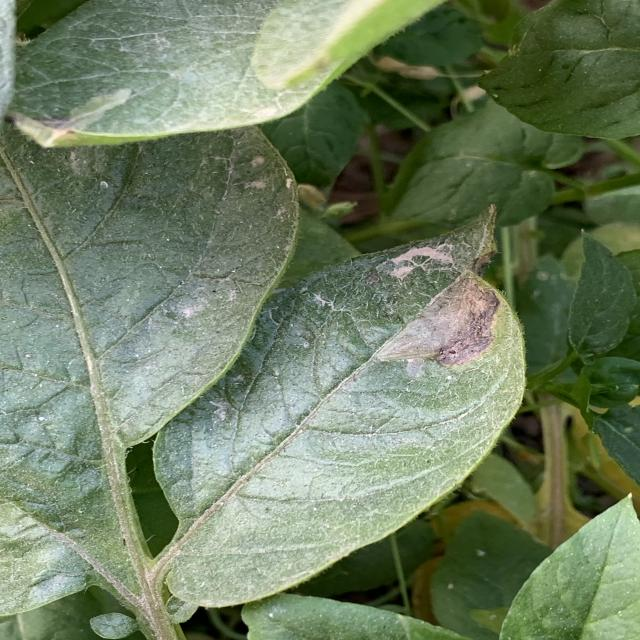lateblight: (377, 276, 502, 366), (375, 239, 453, 284)
